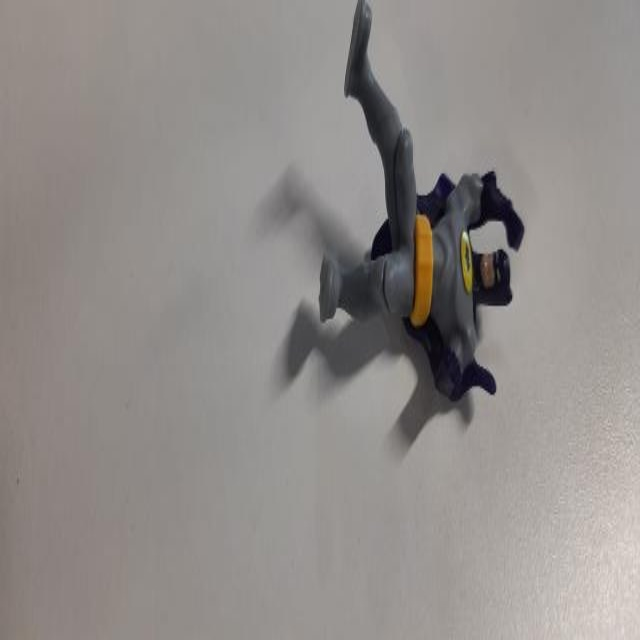Batman: (310, 2, 523, 419)
